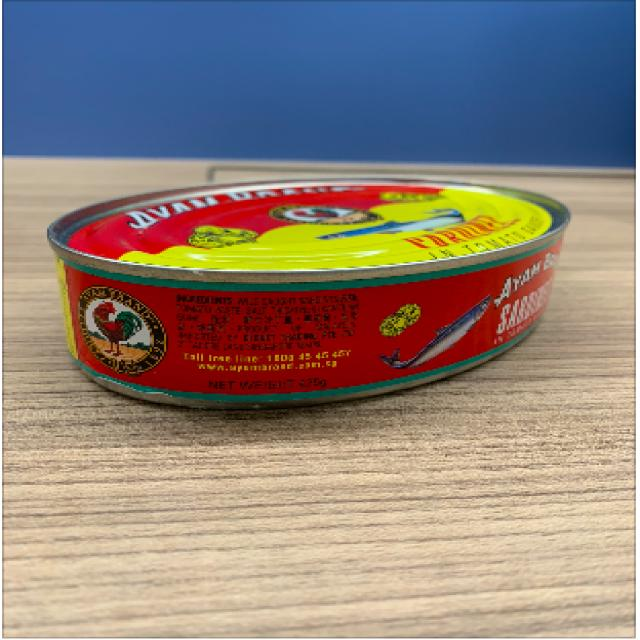object_name: (53, 185, 573, 399)
